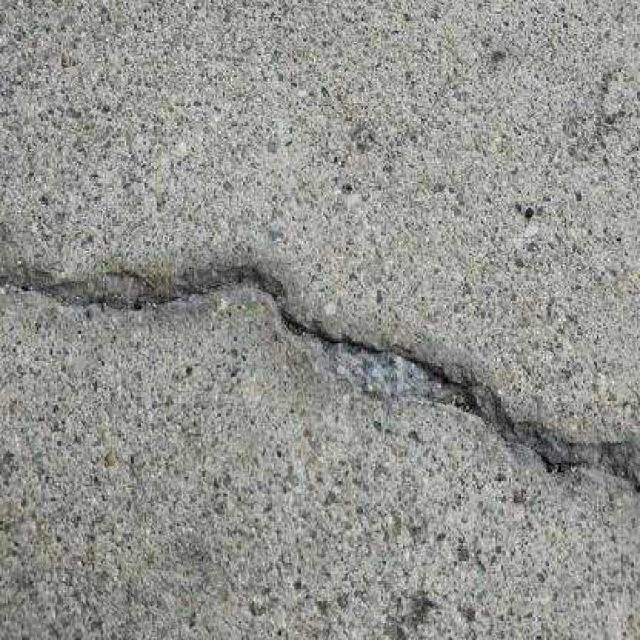D00: (0, 266, 640, 499)
